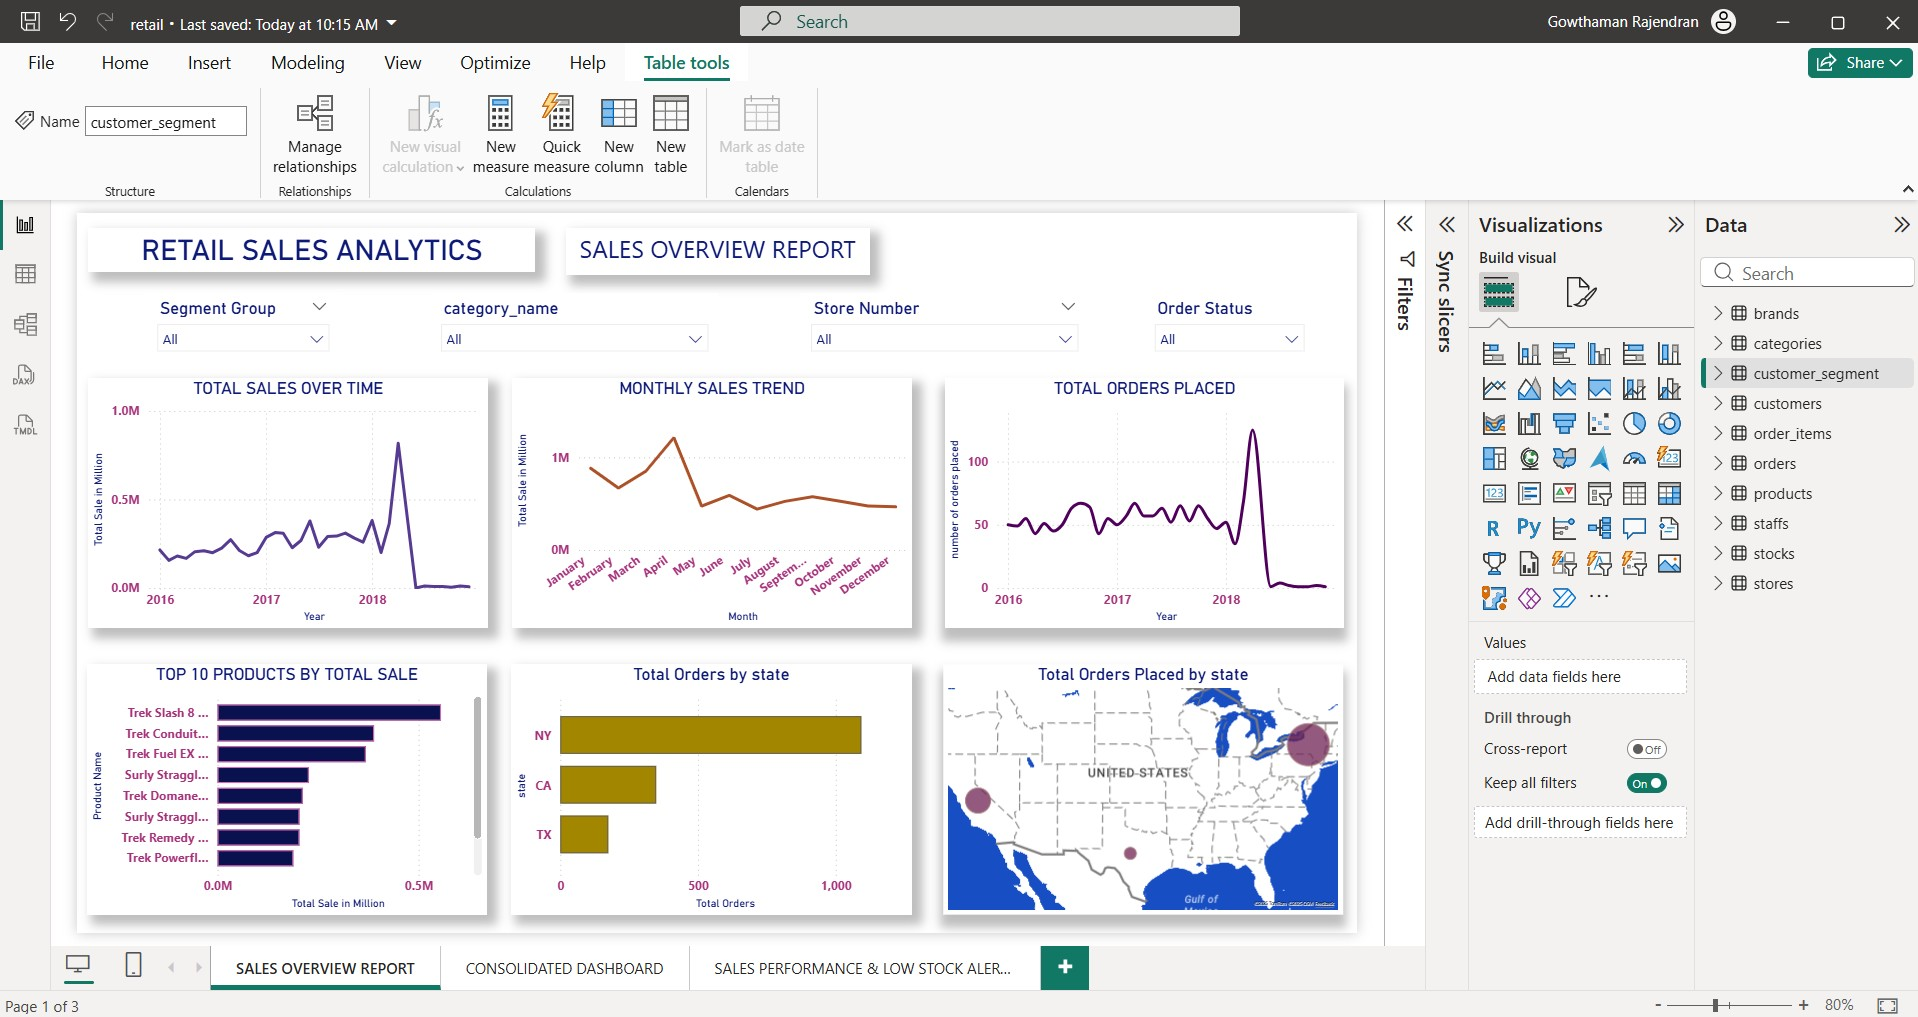

The page's visual inventory and layout, read from the dashboard file:
{"tool":"powerbi","page":{"name":"SALES OVERVIEW REPORT","canvas":[1280,720],"ordinal":0},"visuals":[{"type":"textbox","box":[11.2,15,447.5,43.8],"z":0},{"type":"textbox","box":[488.8,15,303.8,47.5],"z":1000},{"type":"lineChart","title":"TOTAL SALES OVER TIME","fields":{"Y":["Sum(order_items.total_sale)"],"Category":["orders.order_date.Variation.Date Hierarchy.Year","orders.order_date.Variation.Date Hierarchy.Month"]},"box":[11,165,400,250],"z":2000},{"type":"lineChart","title":"MONTHLY SALES TREND","fields":{"Y":["Sum(order_items.total_sale)"],"Category":["orders.order_date.Variation.Date Hierarchy.Month"]},"box":[434.7,165,400,250],"z":3000},{"type":"lineChart","title":"TOTAL ORDERS PLACED","fields":{"Category":["orders.order_date.Variation.Date Hierarchy.Year","orders.order_date.Variation.Date Hierarchy.Month"],"Y":["CountNonNull(orders.order_id)"]},"box":[867.2,165,400,250],"z":4000},{"type":"barChart","title":"TOP 10 PRODUCTS BY TOTAL SALE","fields":{"Category":["products.product_name"],"Y":["Sum(order_items.total_sale)"]},"box":[10,451.2,400,250],"z":5000},{"type":"barChart","fields":{"Y":["CountNonNull(orders.order_id)"],"Category":["customers.state"]},"box":[433.8,451.2,401.2,250],"z":6000},{"type":"azureMap","fields":{"Category":["stores.state"],"Size":["CountNonNull(orders.order_id)"]},"box":[866.2,451.2,400,250],"z":7000},{"type":"slicer","fields":{"Values":["orders.OrderStatus"]},"box":[1067.5,80,170,72.5],"z":8000},{"type":"slicer","fields":{"Values":["categories.category_name"]},"box":[353.8,80,287.5,72.5],"z":9000},{"type":"slicer","fields":{"Values":["stores.store_id"]},"box":[723.8,80,287.5,72.5],"z":10000},{"type":"slicer","fields":{"Values":["customer_segment.segment_group"]},"box":[70,80,192.5,72.5],"z":11000}]}

Visuals, with their boxes on the page's 1280x720 design canvas (x1, y1, x2, y2). These are canvas units, not pixel positions in the 1918x1017 screenshot, which may show the page scaled, cropped or inside an application window:
textbox: l=11, t=15, r=459, b=59
textbox: l=489, t=15, r=793, b=62
"TOTAL SALES OVER TIME" lineChart: l=11, t=165, r=411, b=415
"MONTHLY SALES TREND" lineChart: l=435, t=165, r=835, b=415
"TOTAL ORDERS PLACED" lineChart: l=867, t=165, r=1267, b=415
"TOP 10 PRODUCTS BY TOTAL SALE" barChart: l=10, t=451, r=410, b=701
barChart - CountNonNull(orders.order_id) x customers.state: l=434, t=451, r=835, b=701
azureMap - stores.state x CountNonNull(orders.order_id): l=866, t=451, r=1266, b=701
slicer - orders.OrderStatus: l=1068, t=80, r=1238, b=152
slicer - categories.category_name: l=354, t=80, r=641, b=152
slicer - stores.store_id: l=724, t=80, r=1011, b=152
slicer - customer_segment.segment_group: l=70, t=80, r=262, b=152
